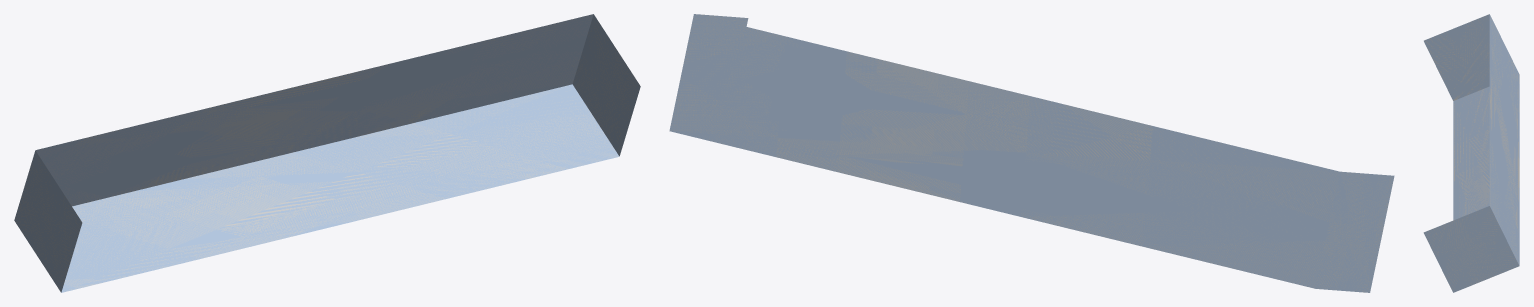
File: original-6.obj
3 views of the same model, side by side, from view 1: azimuth 30°, elevation 25°; view 2: azimuth 150°, elevation 25°; view 3: azimuth 270°, elevation 25° (orthographic). The views are drawn at different scales.
Parts seen in each view (by area): view 1: #ID1209; view 2: #ID1209; view 3: #ID1209.
Boxes of the visible parts, box(x1,y1,x2,y2) form: #ID1209: box(14, 14, 640, 292); #ID1209: box(669, 14, 1394, 292); #ID1209: box(1423, 14, 1519, 292).
Bounding box in the file's own units: 0.1202 × 0.0255 × 0.0254.
